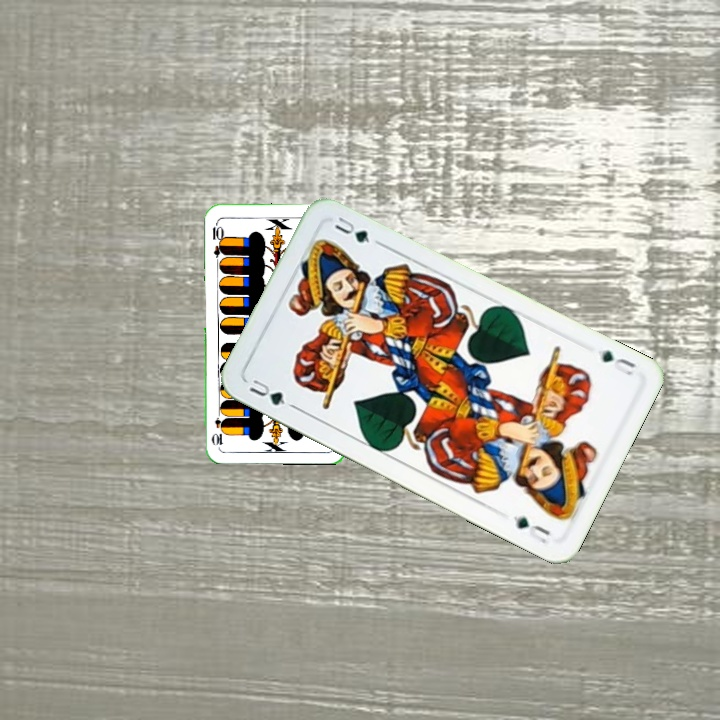E10: (208, 218, 227, 259)
GU: (245, 375, 297, 411), (593, 345, 639, 378)
